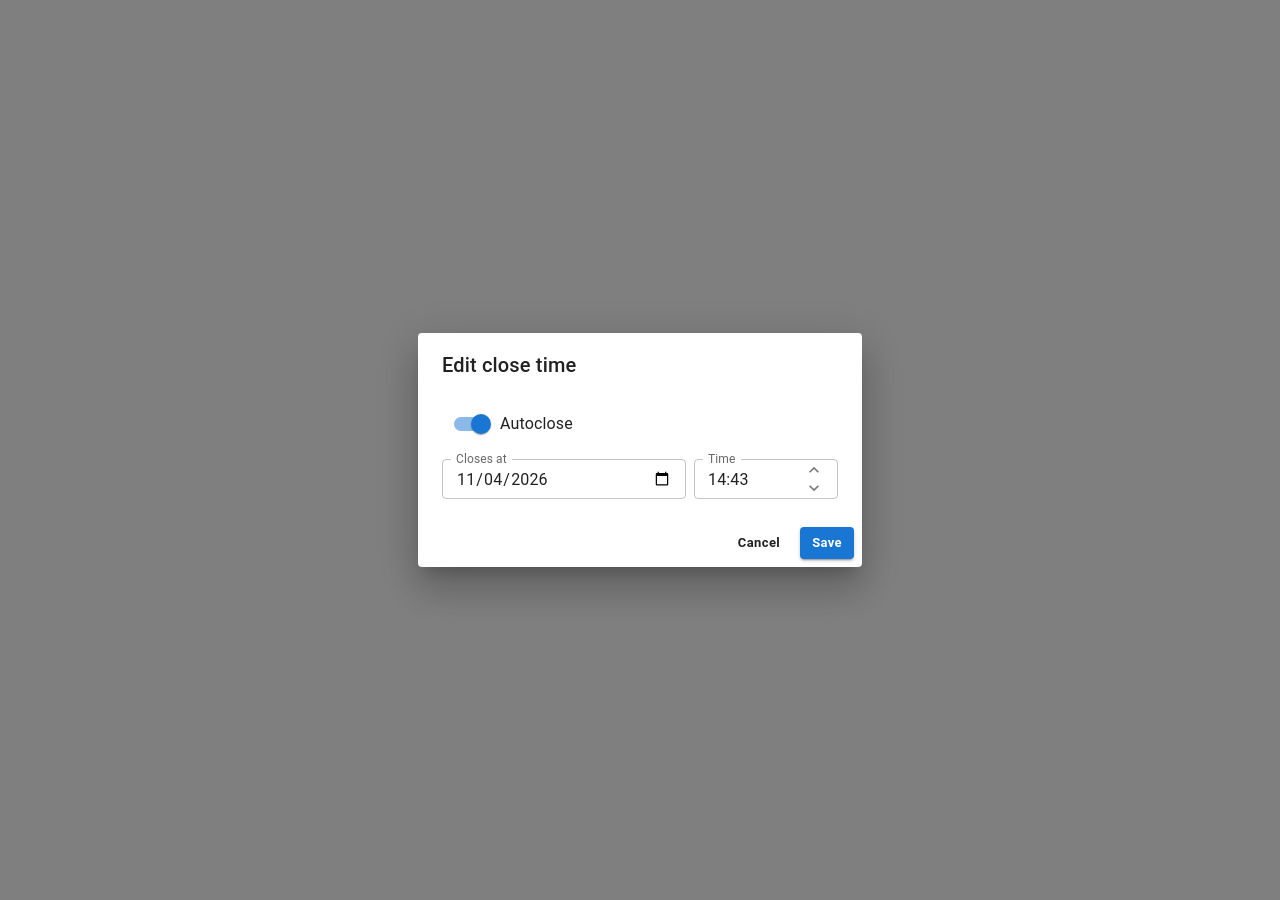
Test: EditCloseTimeDialog › shows a server error from the save and stays open
This screenshot has width=1280, height=900.
Click the button "Save". click: (827, 543)
box: [800,527,854,559]
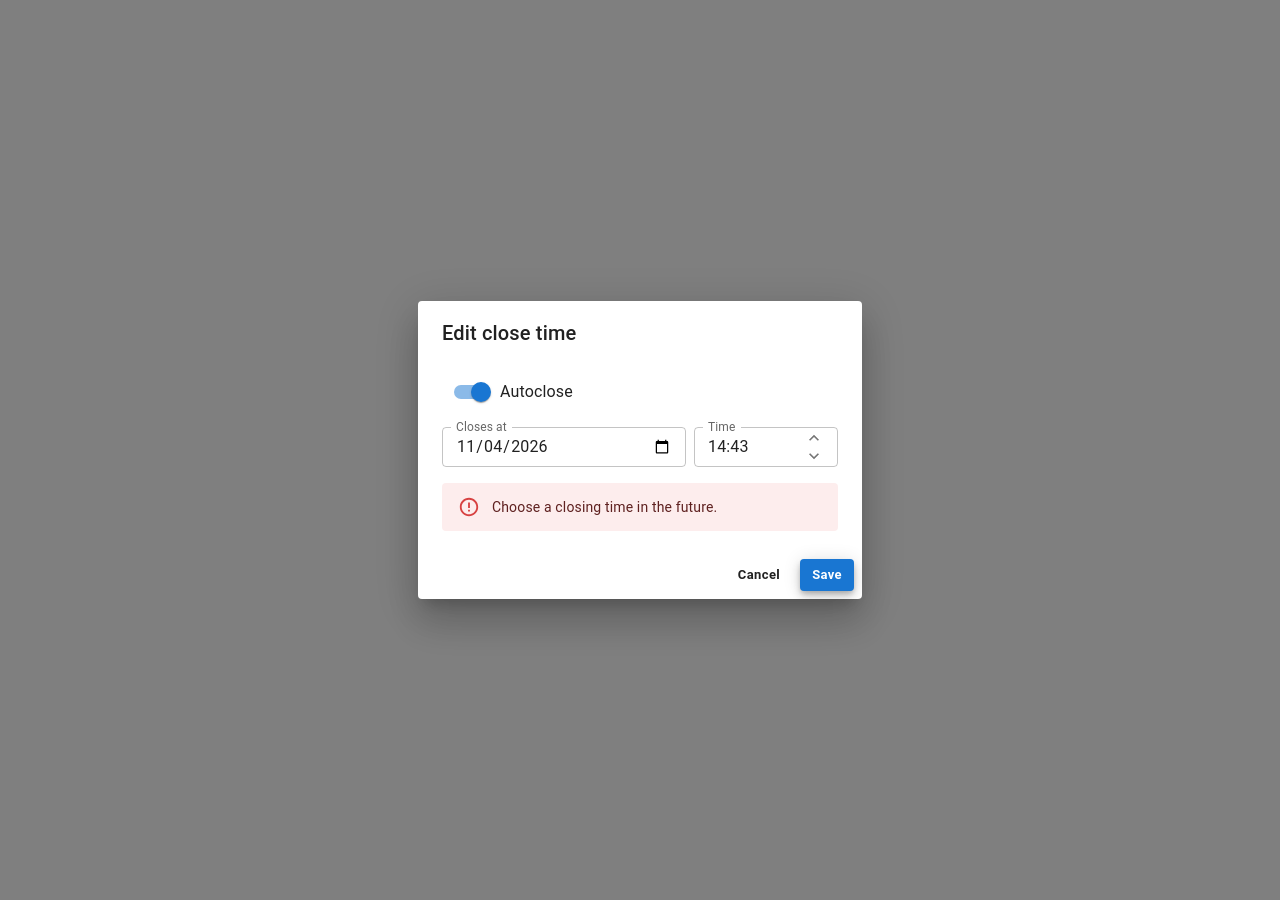
Check: the message reads "Choose a closing time in the future.", box [492,499,717,515]
